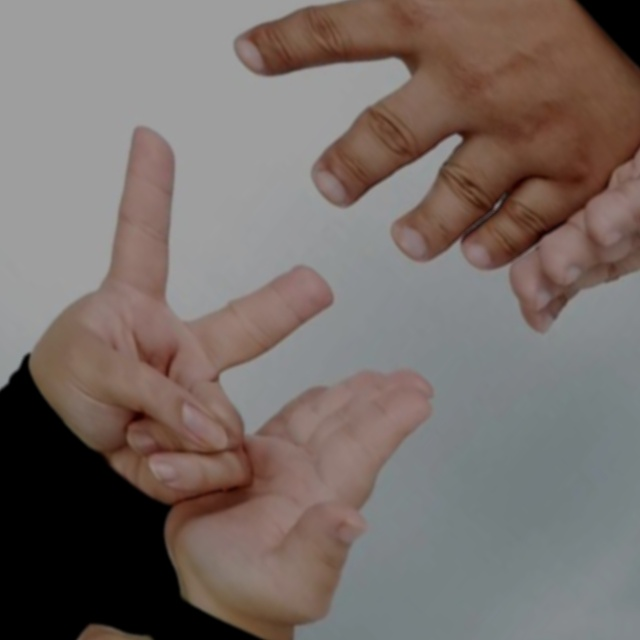Paper: (0, 195, 80, 640)
Scissors: (90, 0, 640, 425)
